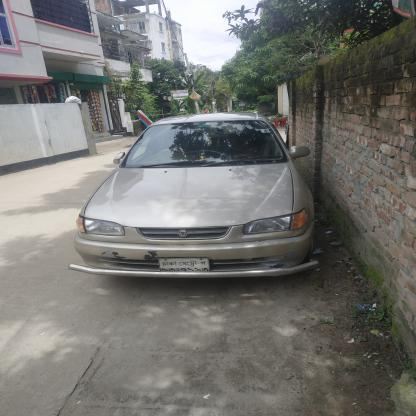license_plate: (156, 258, 211, 272)
